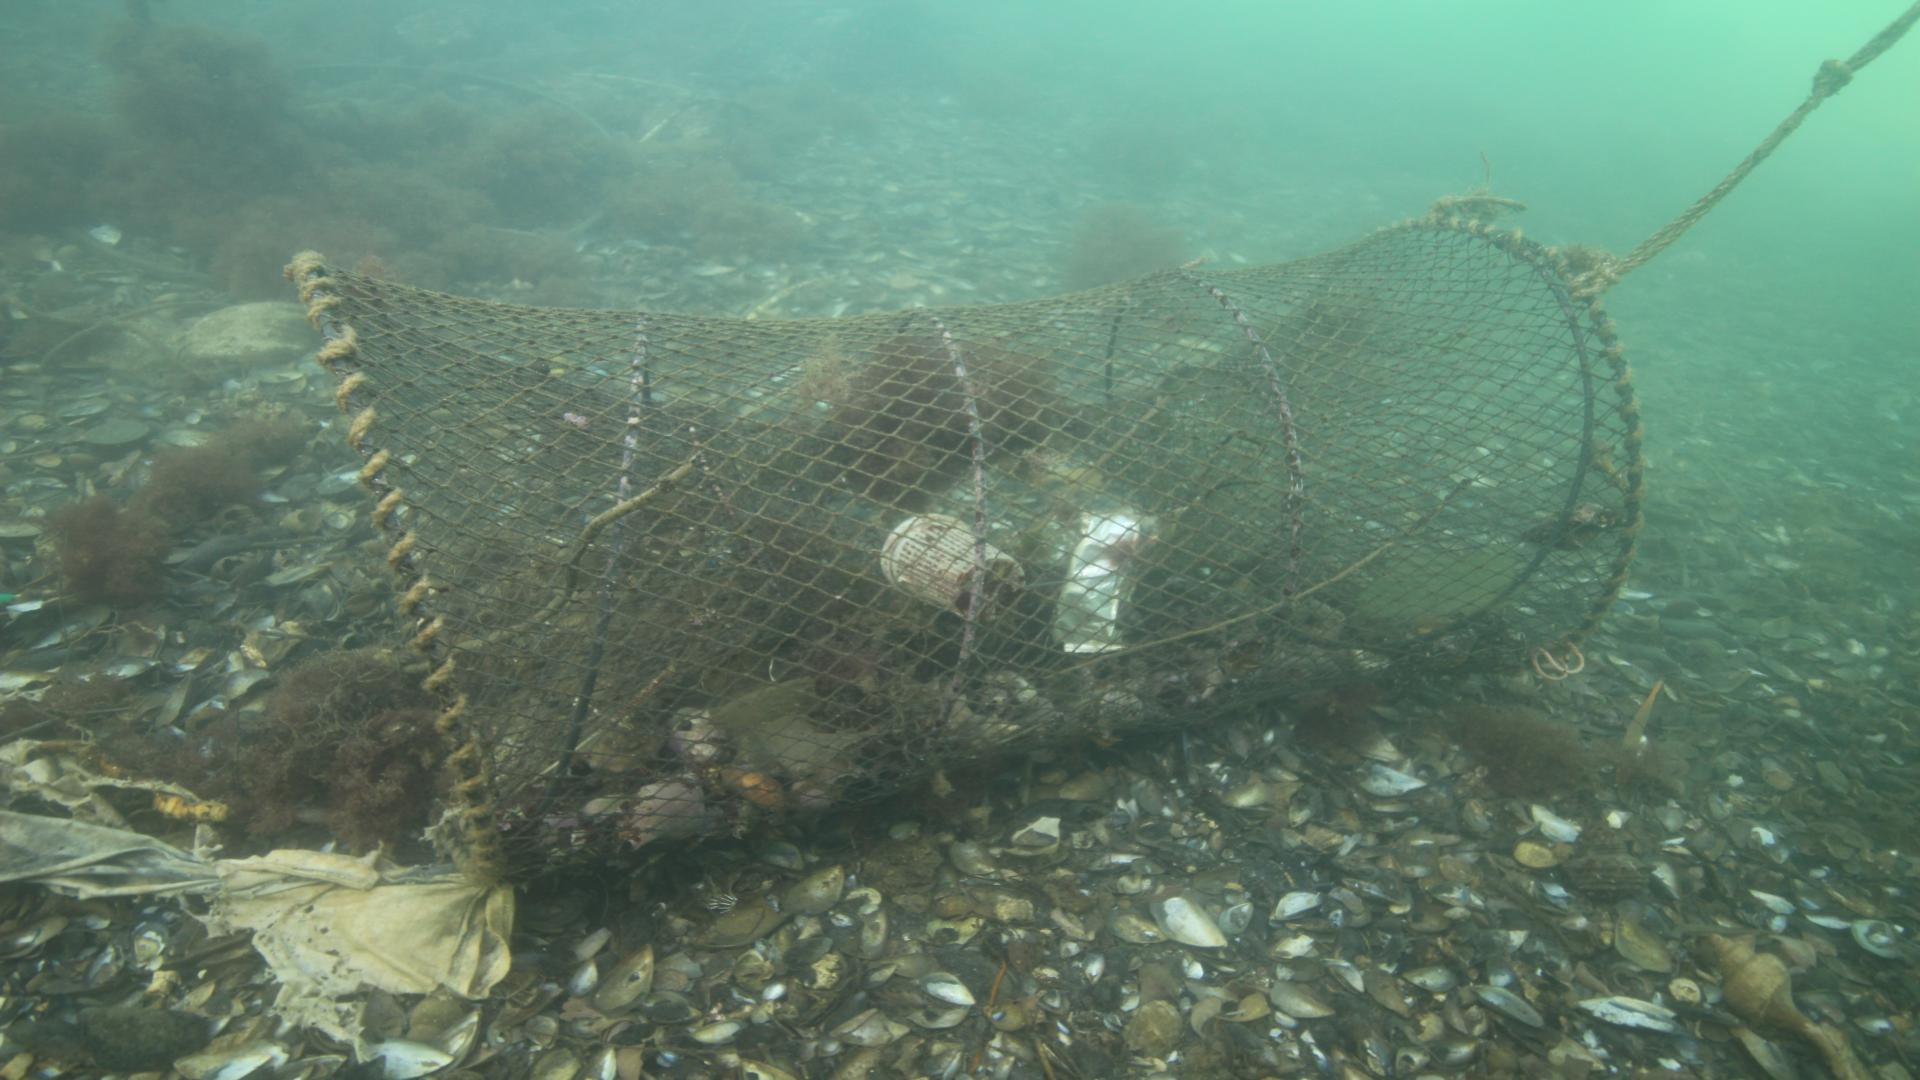bundle of ropes: (1596, 0, 1920, 287)
spring fish trap: (282, 212, 1643, 882)
